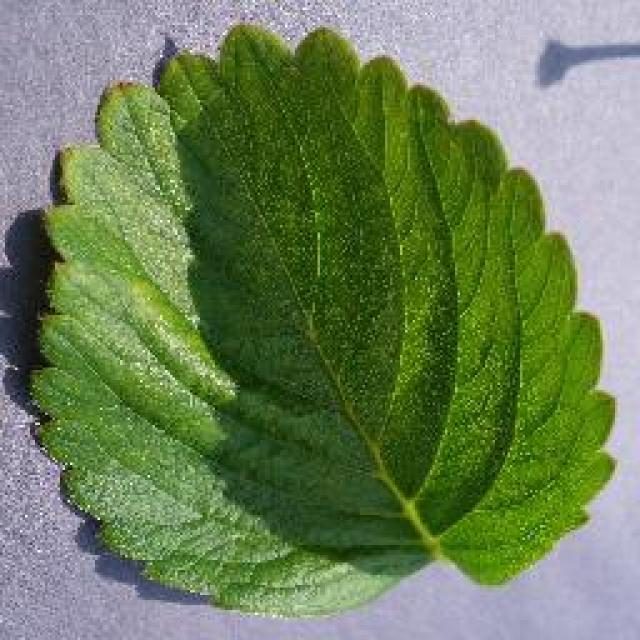Strawberry___healthy: (5, 0, 627, 638)
